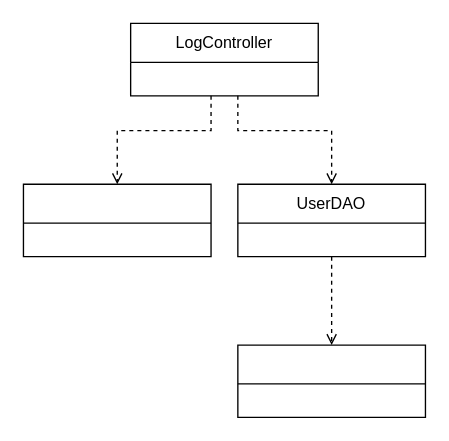
Some shapes in this 449 by 441 pixel diagram are drawn without their labels. Here are the shapes that lost their labels. From the top down, the centre of each, then its label:
(116,220): EmailSender
(331,380): User
